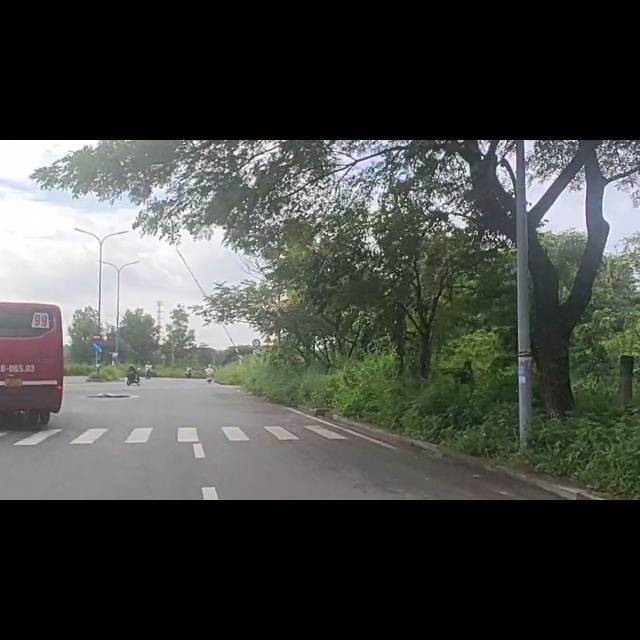bien_nguy_hiem: (92, 358, 105, 376), (92, 343, 104, 359), (251, 369, 262, 384)
